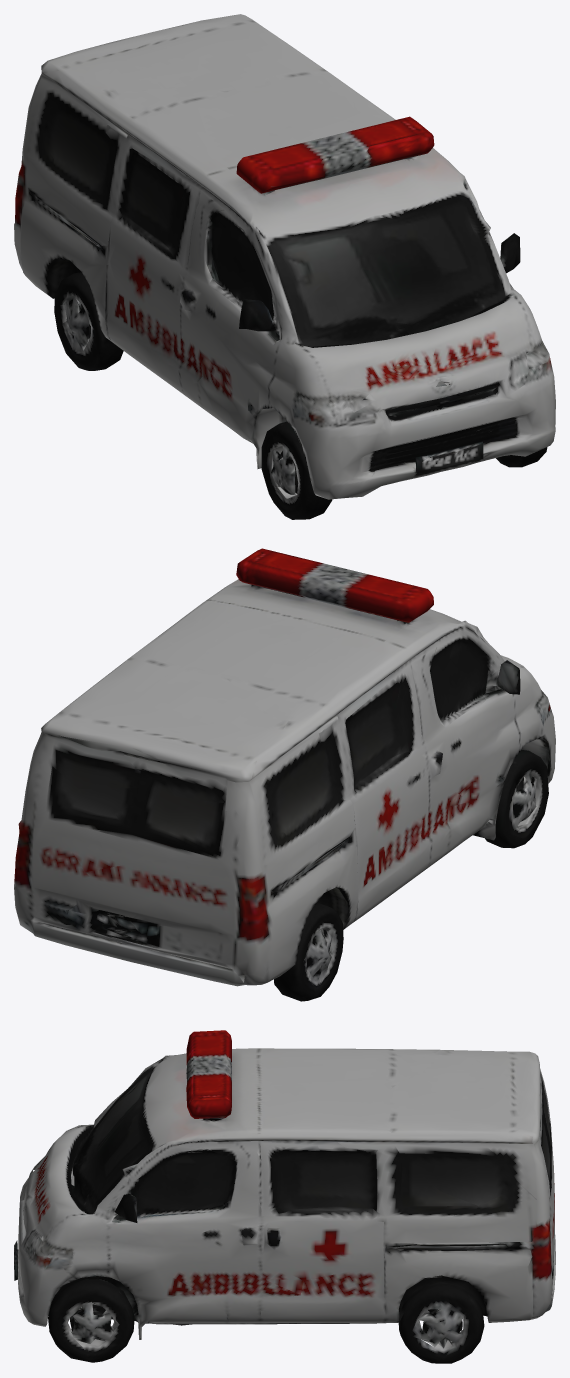
File: ambulance.glb
The picture shows the model from 3 angles, top to bottom: view 1: azimuth 30°, elevation 25°; view 2: azimuth 150°, elevation 25°; view 3: azimuth 270°, elevation 25°; orthographic projection. The views are drawn at different scales.
Visible parts, largest first — view 1: tripo_node_62105a6e; view 2: tripo_node_62105a6e; view 3: tripo_node_62105a6e.
Part boxes in pixels (box(x1,y1,x2,y2)): tripo_node_62105a6e: box(14, 14, 555, 519); tripo_node_62105a6e: box(14, 548, 555, 1001); tripo_node_62105a6e: box(14, 1030, 555, 1363).
Bounding box in the file's own units: 50.77 × 51.14 × 99.98.
Materials: 1 (1 with a texture image).
